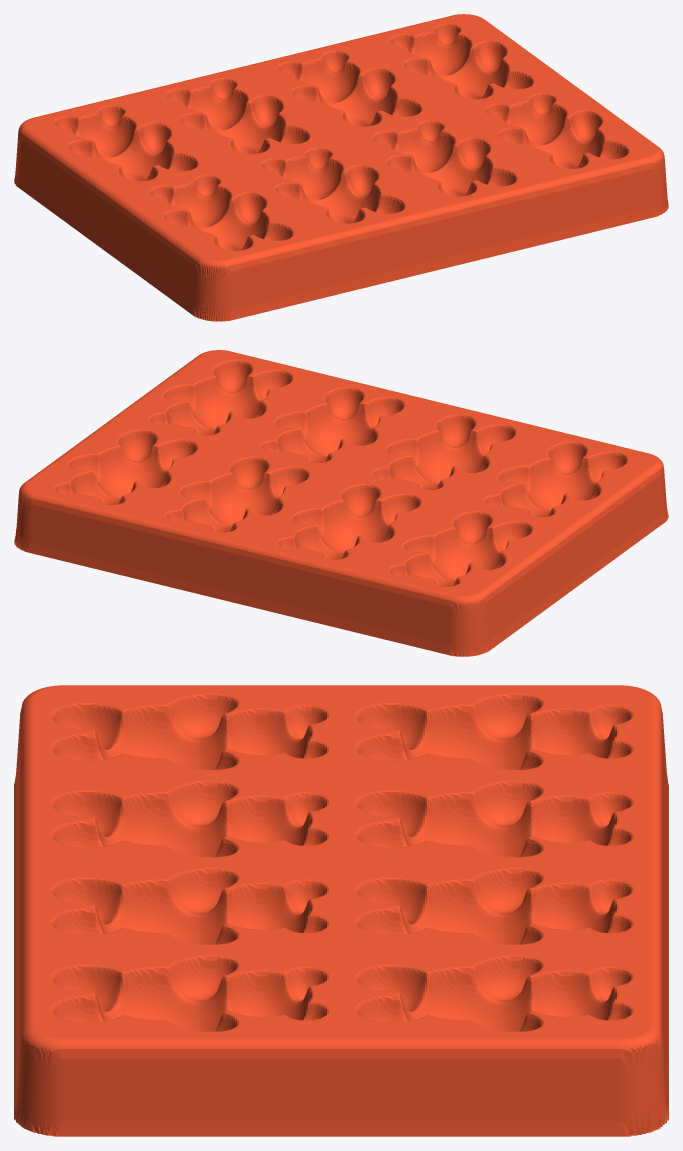
The model's file is mold.glb.
3 views of the same model, one above another, from view 1: azimuth 30°, elevation 25°; view 2: azimuth 150°, elevation 25°; view 3: azimuth 270°, elevation 25° (orthographic). The views are drawn at different scales.
Visible parts, largest first — view 1: geometry_0; view 2: geometry_0; view 3: geometry_0.
Part boxes in pixels (x1,y1,x2,y2): geometry_0: [14, 14, 668, 321]; geometry_0: [14, 350, 668, 656]; geometry_0: [14, 685, 668, 1136].
Bounding box in the file's own units: 0.1626 × 0.0185 × 0.1222.
